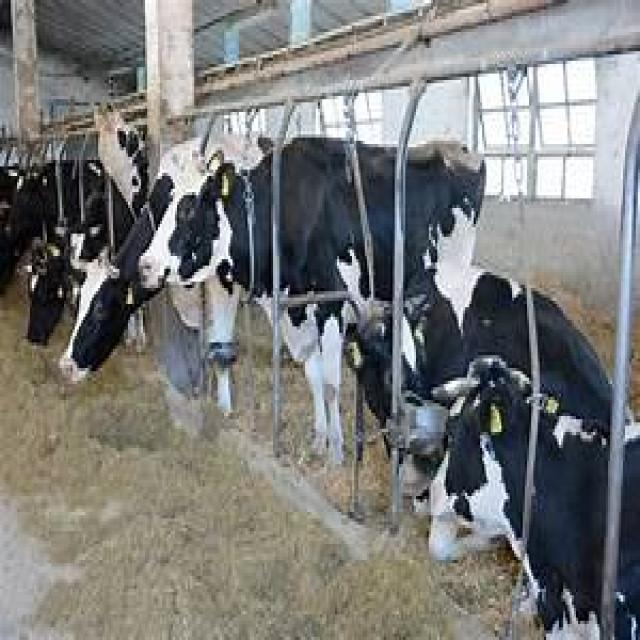cow: (137, 134, 486, 464), (444, 381, 640, 640), (66, 182, 173, 378)
